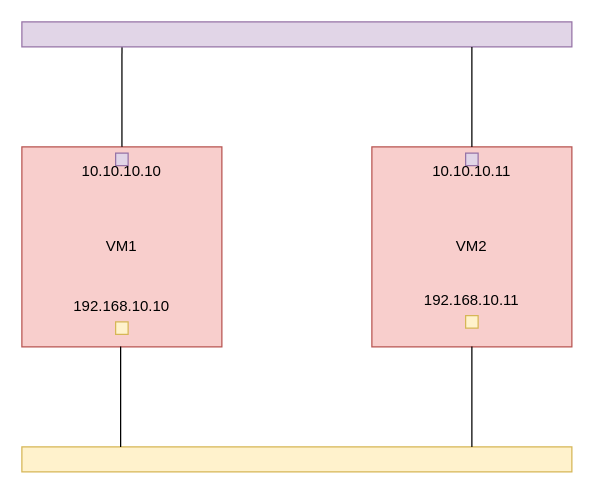
The diagram is 594 pixels wide and 494 high, and some of its shapes have lost their labels. Here are the shapes that lost their labels. From the top down, the centre of each, then its label:
the point at 296,34: management_net: 10.10.10.0/24 - isolated mode
the point at 296,459: external_net: 192.168.10.0/24 - NAT mode
